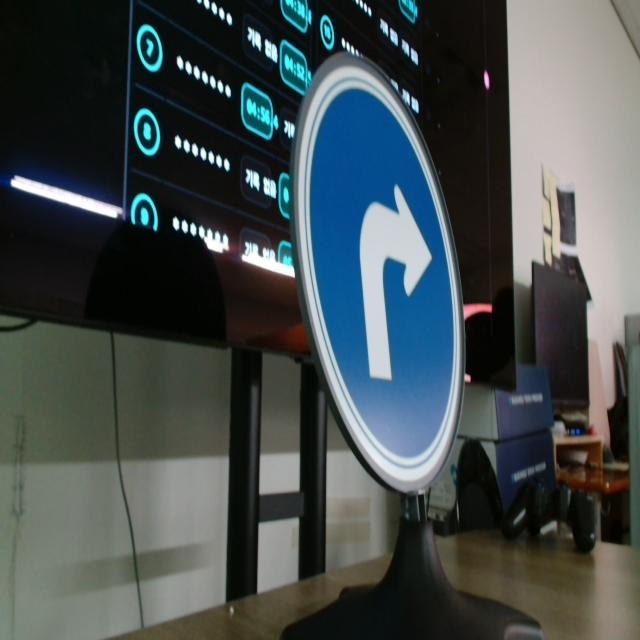right_dierection: (284, 45, 467, 491)
